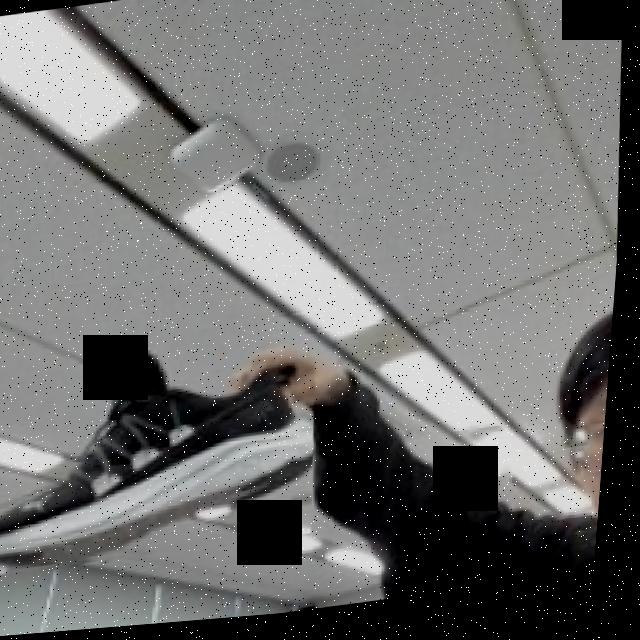shoe: (0, 322, 332, 579)
